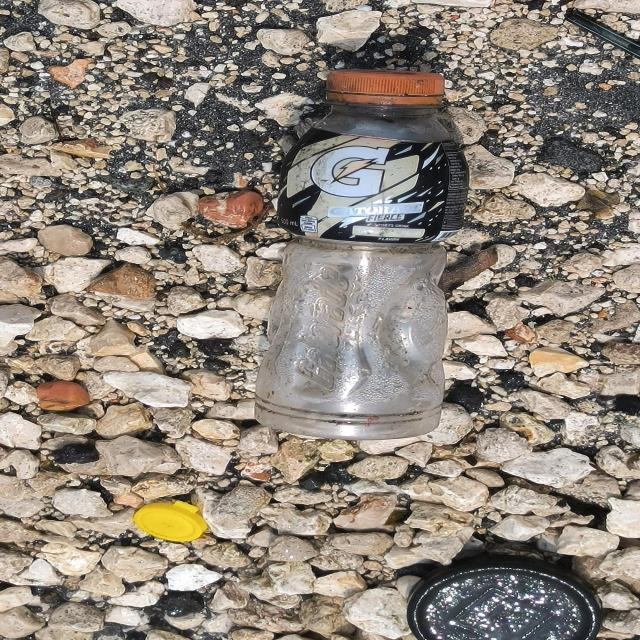plastic_waste: (251, 67, 475, 443), (404, 553, 608, 640), (131, 498, 208, 544)
